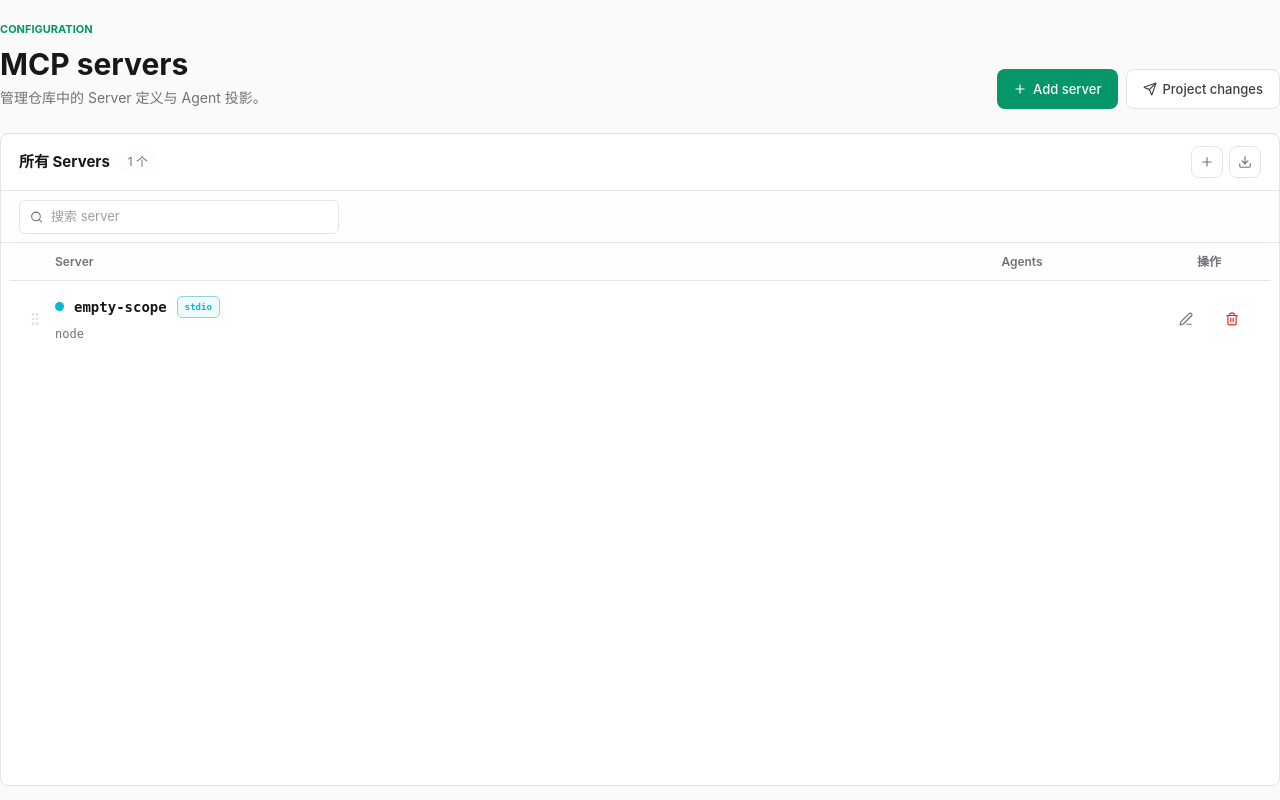
Test: MCP workbench view › keeps RAW, Default, CRUD, and zero-source import when agents are empty
Expected: the search field named "搜索 MCP server" is shown, [51, 207, 328, 226]
Click the button with aria-label "选择 empty-scope" at {"x": 120, "y": 306}, box [19, 296, 1252, 340]
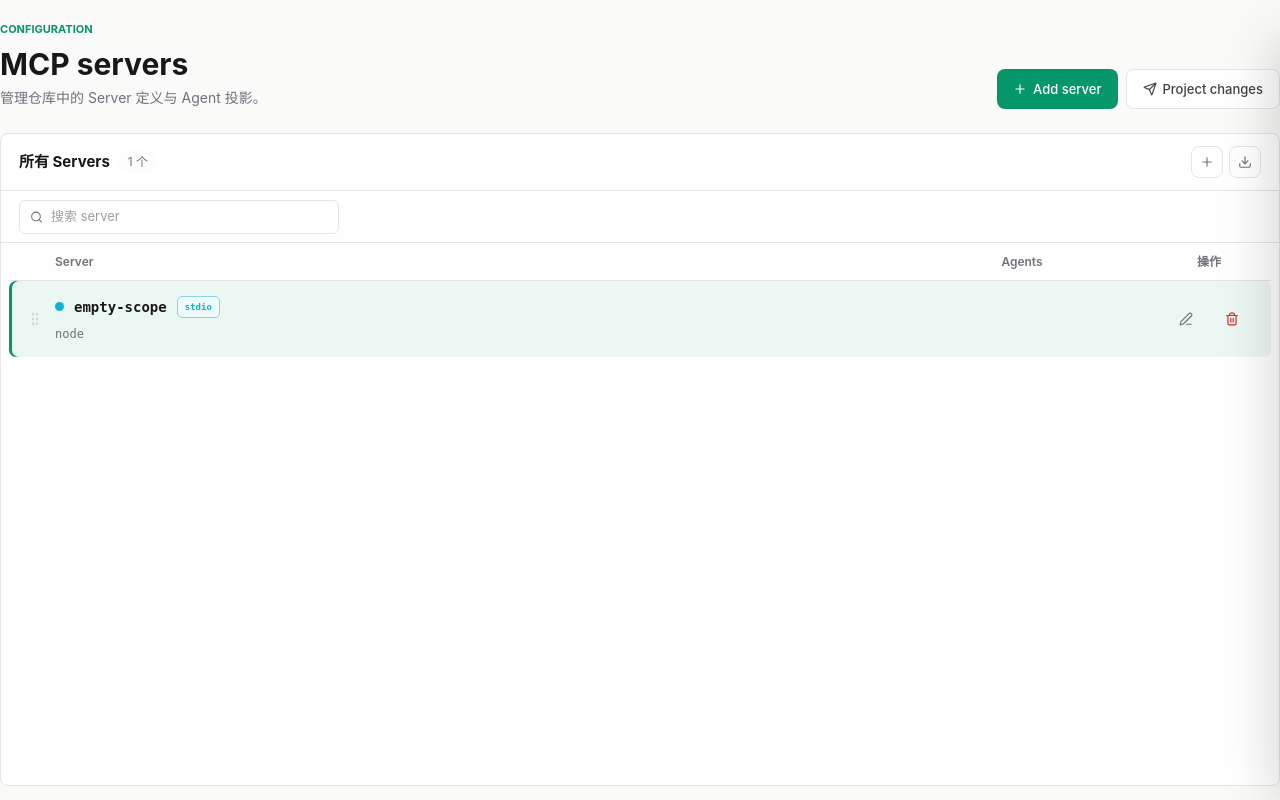
Click the button named "Import MCP" at {"x": 1245, "y": 162}, box [1229, 146, 1261, 178]
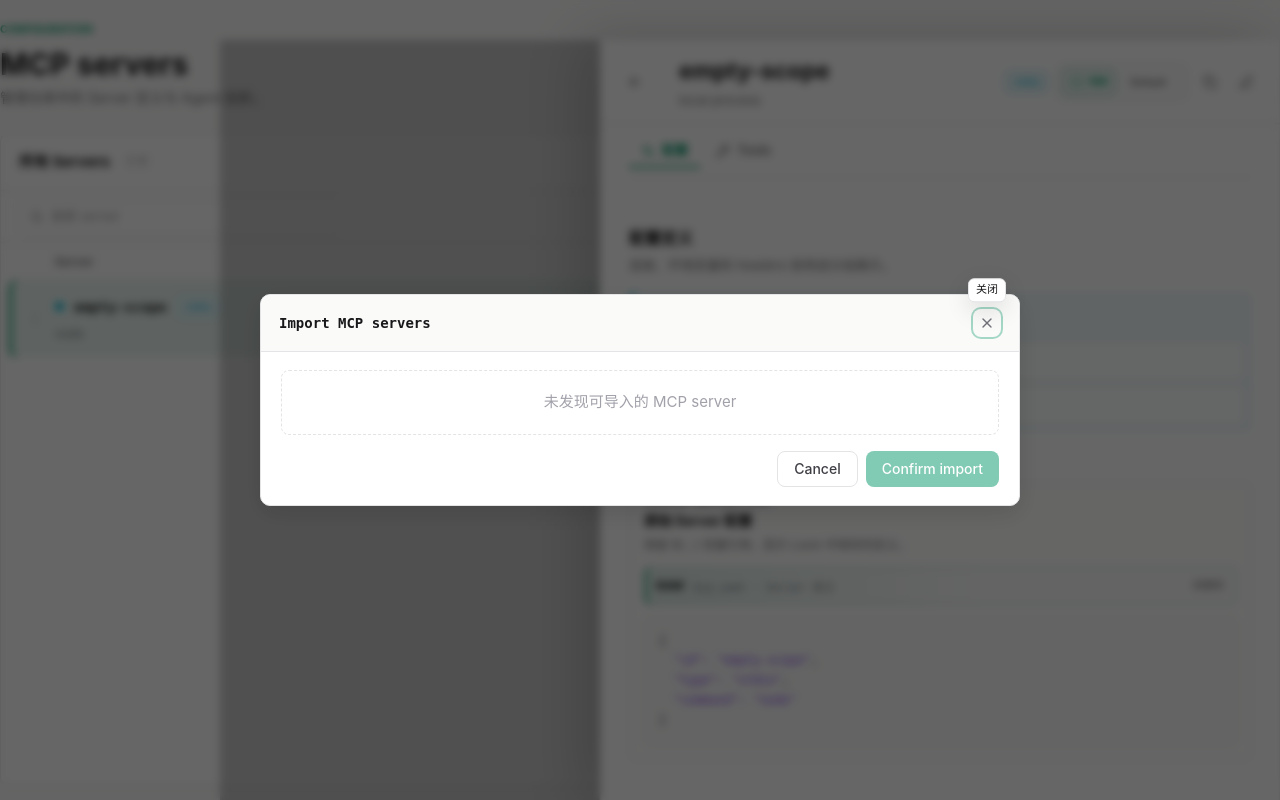
Now the text "未发现可导入的 MCP server" is shown, box [281, 370, 999, 435]
Now the button "Confirm import" is disabled, box [866, 451, 999, 487]
